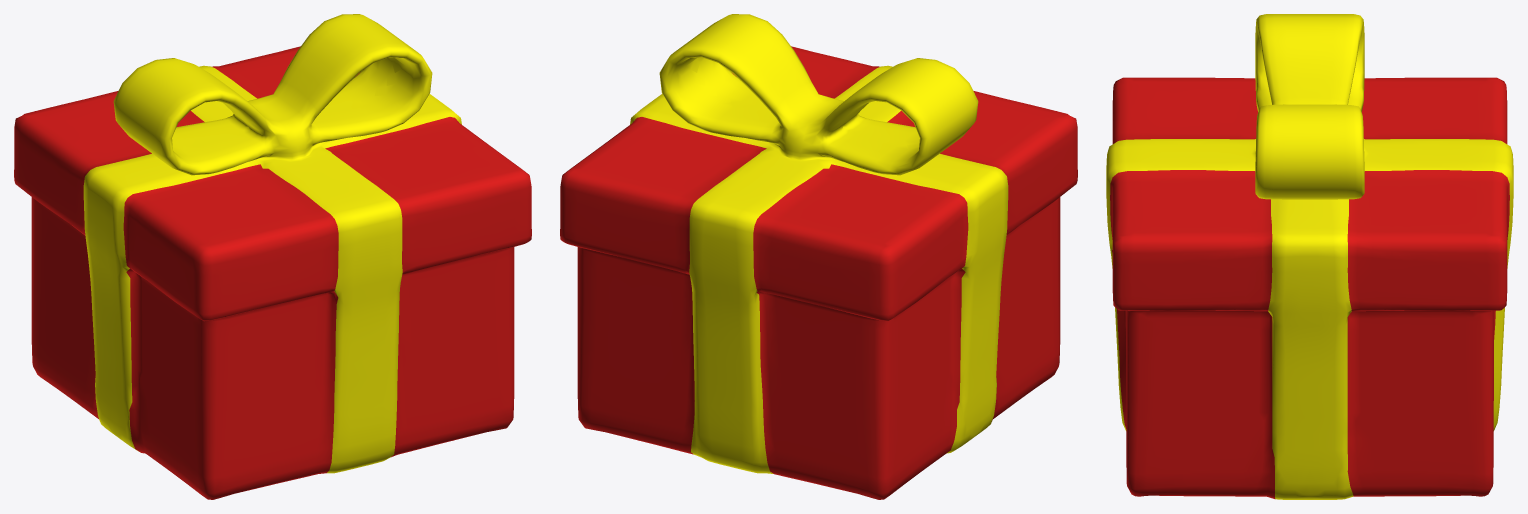
3 renders of one model, left to right at view 1: azimuth 30°, elevation 25°; view 2: azimuth 150°, elevation 25°; view 3: azimuth 270°, elevation 25°, orthographic. The views are drawn at different scales.
Visible parts, largest first — view 1: model_LOD0.001; view 2: model_LOD0.001; view 3: model_LOD0.001.
Boxes of the visible parts, x1,y1,x2,y2 form: model_LOD0.001: [14, 14, 531, 499]; model_LOD0.001: [560, 14, 1077, 499]; model_LOD0.001: [1106, 14, 1513, 499].
Bounding box in the file's own units: 1.41 × 1.37 × 1.41.
